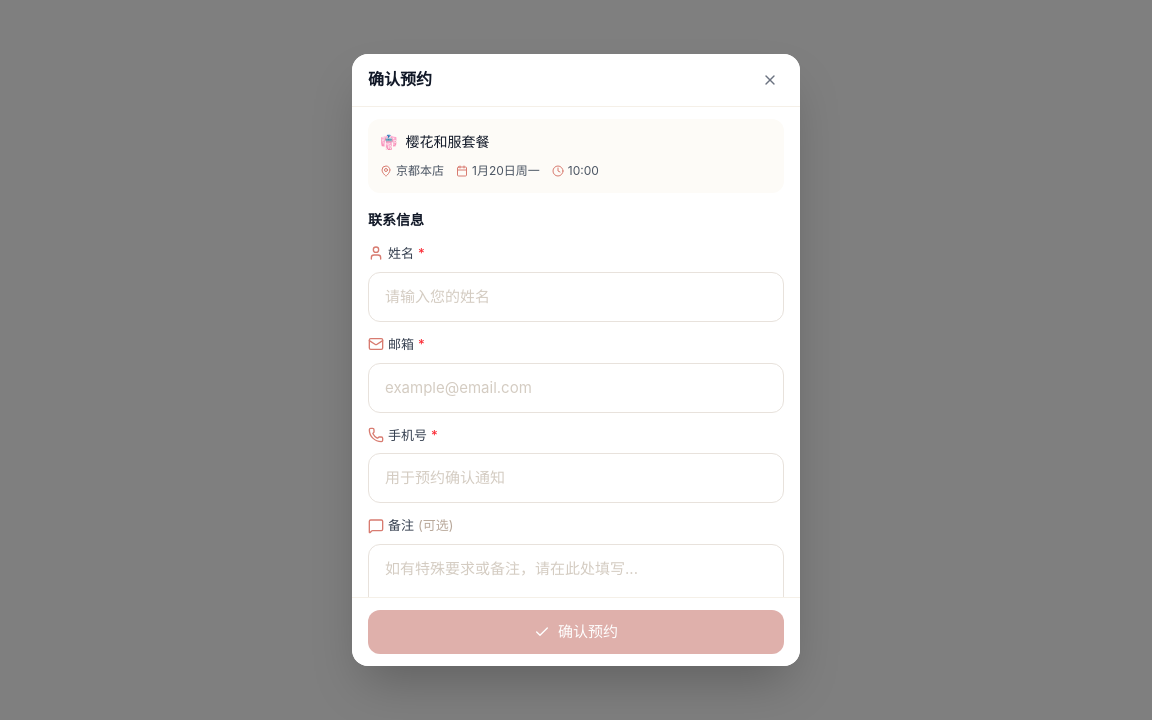
InstantBookingModal › 表单提交 › 提交时显示加载状态
In the field with placeholder "请输入您的姓名": (576, 297) [368,272,784,322], type "张三"
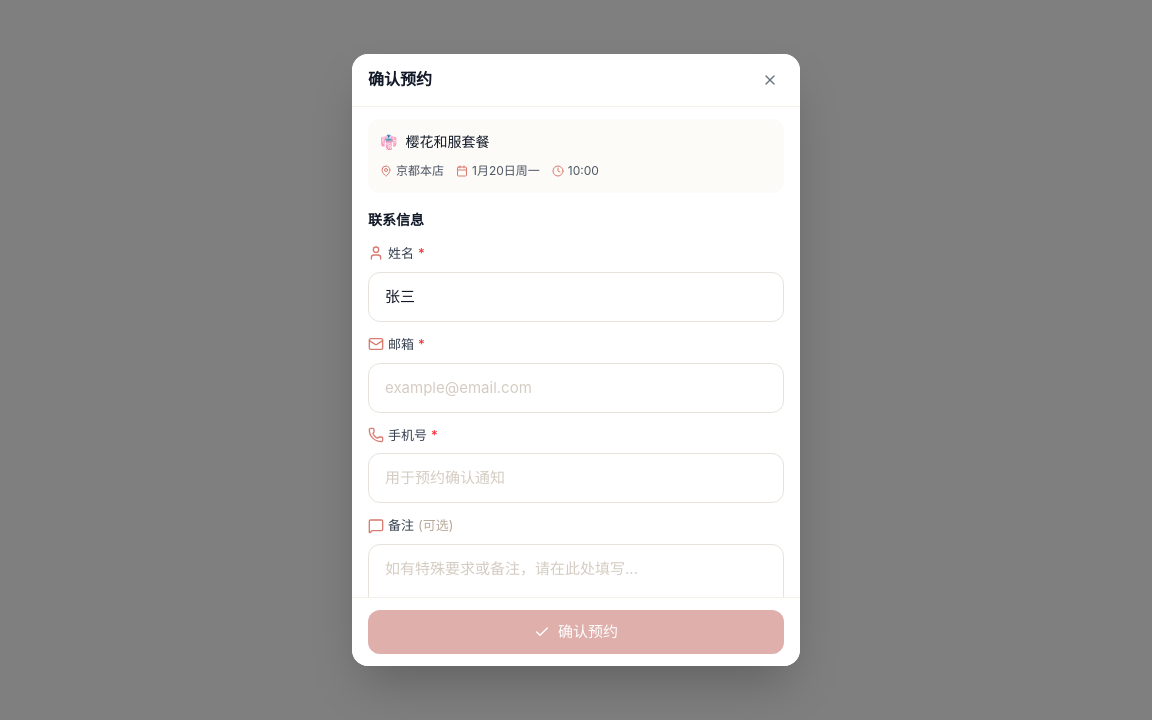
In the field with placeholder "example@email.com": (576, 388) [368,363,784,413], type "test@example.com"
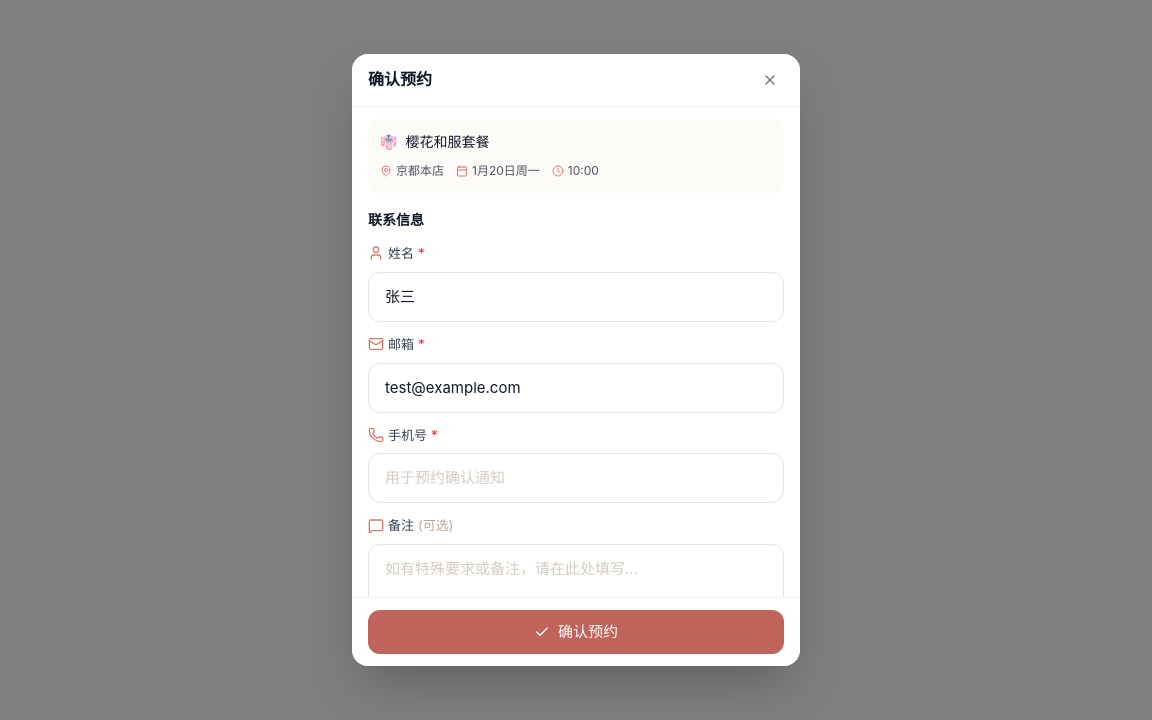
Click the button "确认预约": (576, 632) [368,610,784,654]
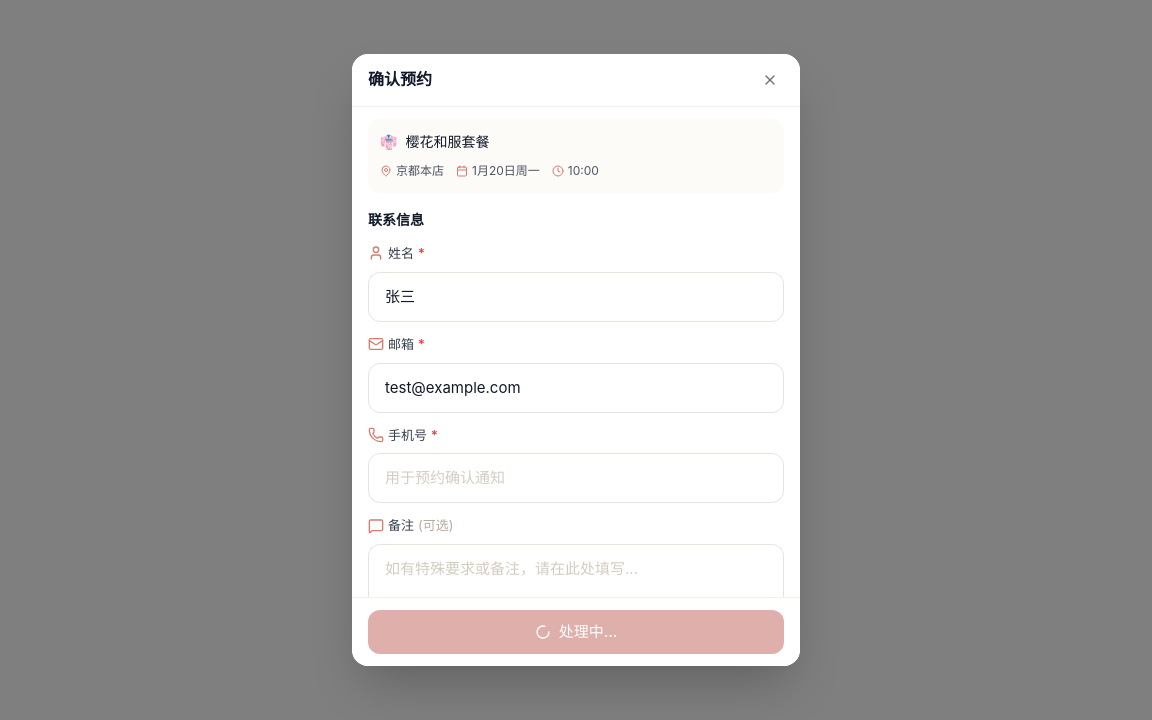
Now the button "处理中..." is shown, box [368,610,784,654]
